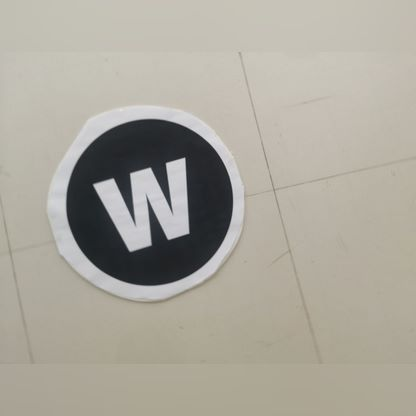W: (64, 138, 232, 264)
